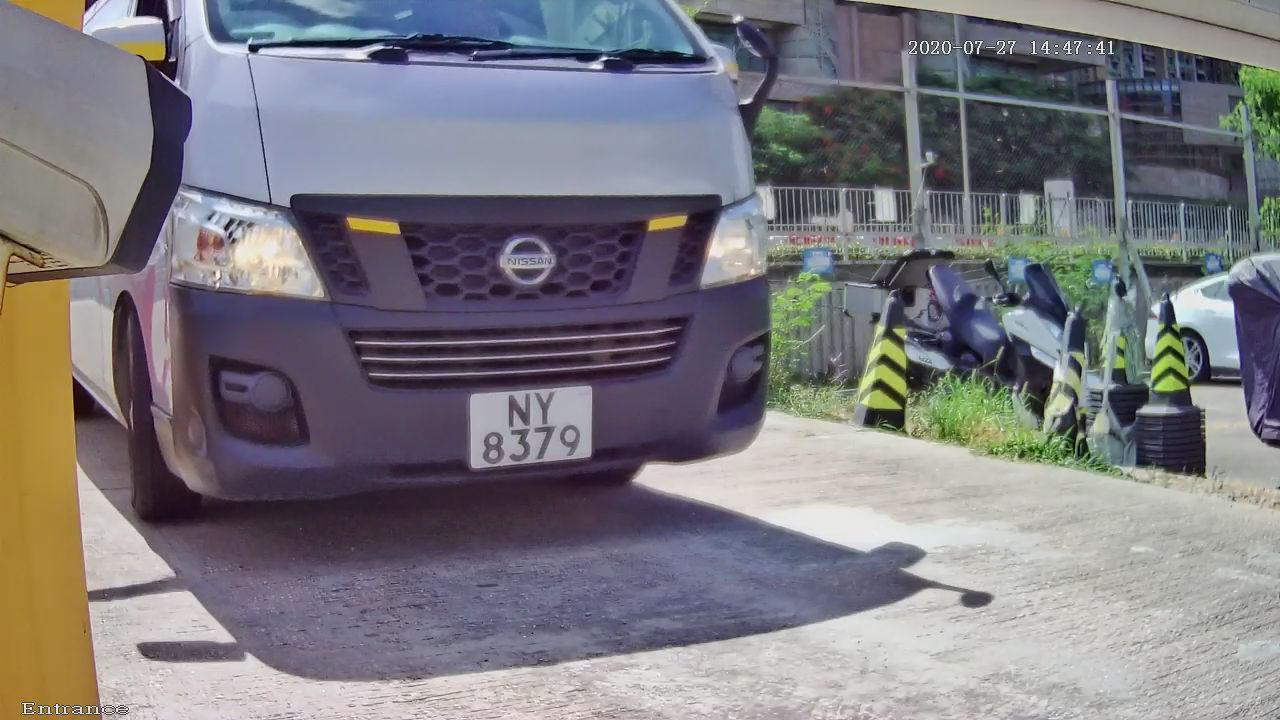privatecar: (46, 29, 886, 544)
